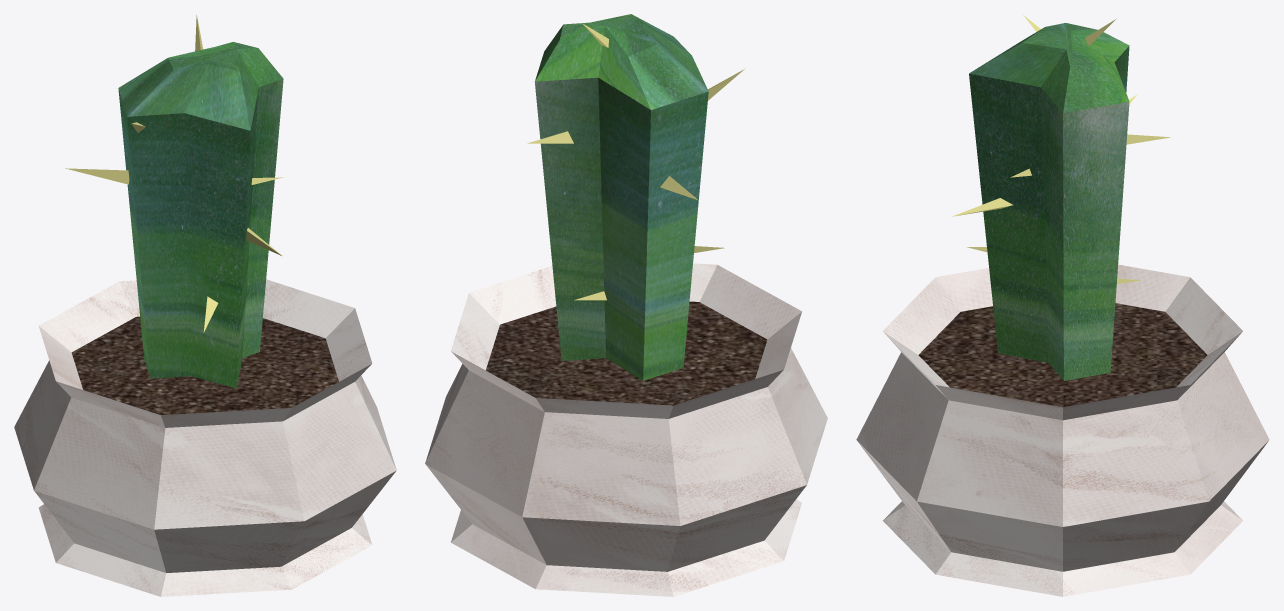
The model's file is Cactus_With_Vase.fbx.
3 views of the same model, side by side, from view 1: azimuth 30°, elevation 25°; view 2: azimuth 150°, elevation 25°; view 3: azimuth 270°, elevation 25° (orthographic). The views are drawn at different scales.
Parts seen in each view (by area): view 1: Cylinder, Cylinder.001, Cone; view 2: Cylinder, Cylinder.001; view 3: Cylinder, Cylinder.001.
Boxes of the visible parts, x1,y1,x2,y2 form: Cylinder: (14, 279, 396, 596); Cylinder.001: (118, 42, 283, 388); Cone: (65, 168, 129, 184); Cylinder: (425, 263, 827, 596); Cylinder.001: (535, 14, 708, 380); Cylinder: (856, 264, 1269, 596); Cylinder.001: (969, 23, 1129, 380).
Bounding box in the file's own units: 52.05 × 70.96 × 52.05.
Materials: 4 (3 with a texture image).
